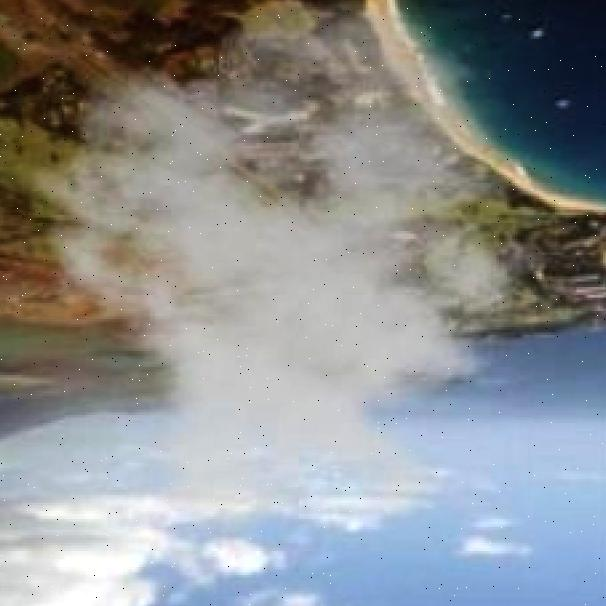smoke: (16, 0, 579, 539)
